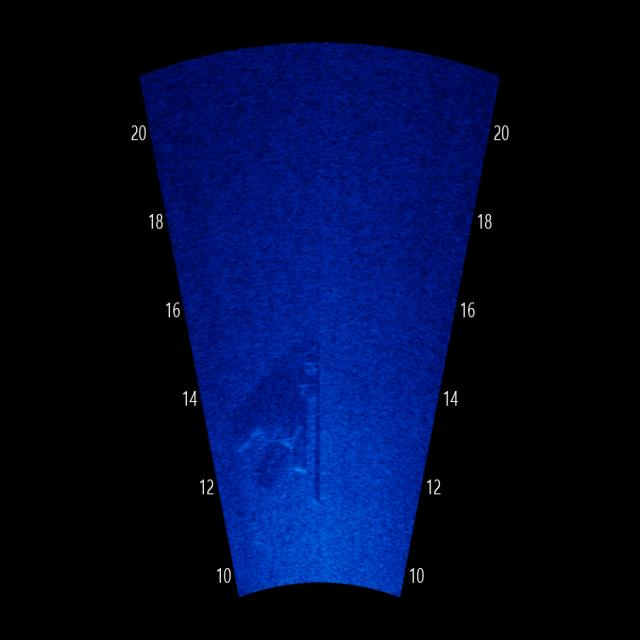triangle: (220, 333, 354, 511)
